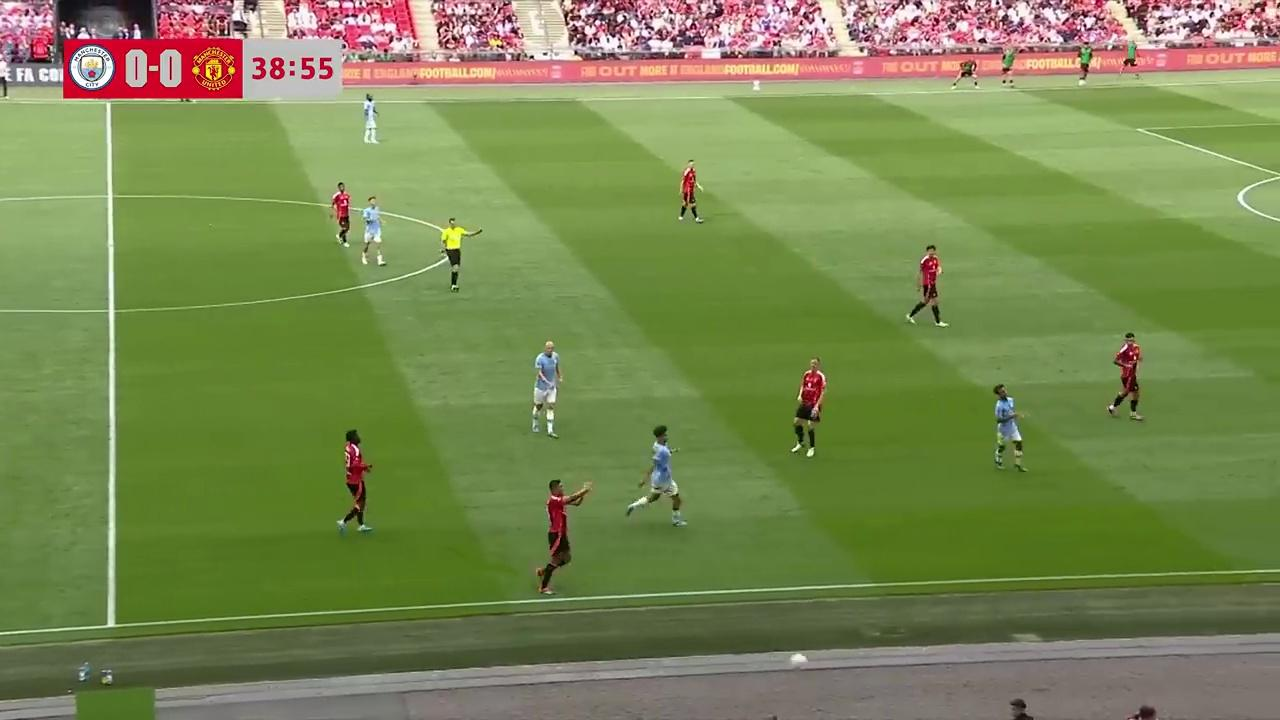player: (536, 479, 594, 591), (625, 426, 687, 526), (336, 429, 374, 535), (792, 357, 826, 458), (1106, 331, 1144, 420), (906, 244, 945, 325), (992, 384, 1027, 472), (531, 339, 562, 436), (359, 195, 385, 266), (677, 161, 703, 223), (329, 181, 352, 246), (362, 94, 379, 144)
referee: (439, 217, 481, 291)
